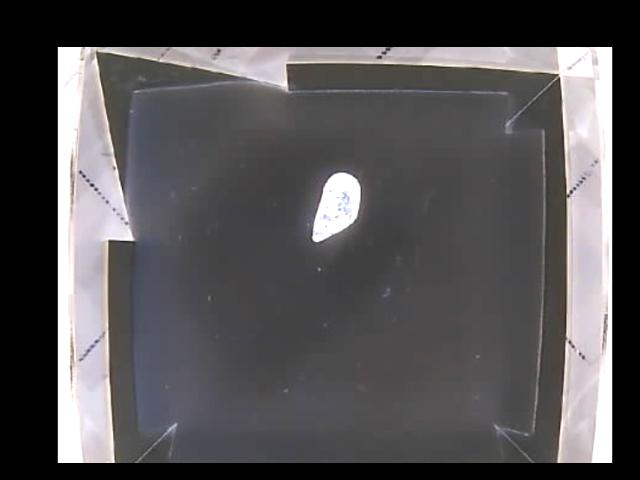Shell: (311, 172, 362, 242)
